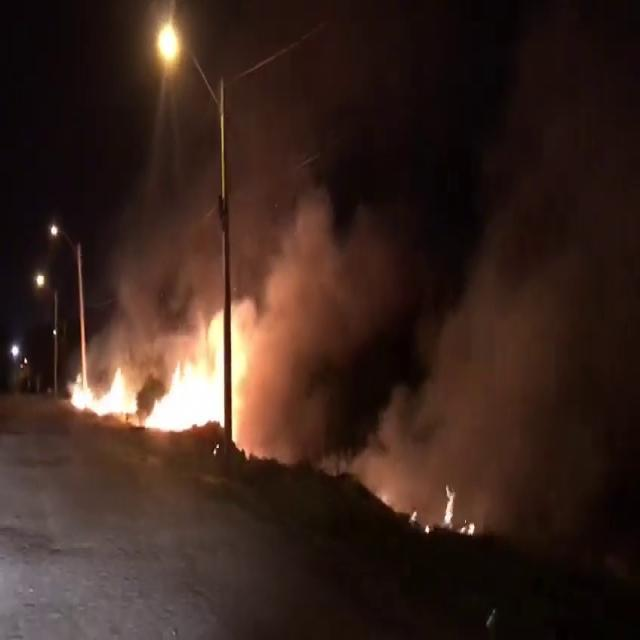Fire: (140, 326, 238, 438), (72, 361, 130, 427), (442, 489, 457, 531)
Smoke: (92, 98, 622, 374), (387, 62, 637, 454), (262, 120, 411, 442)
